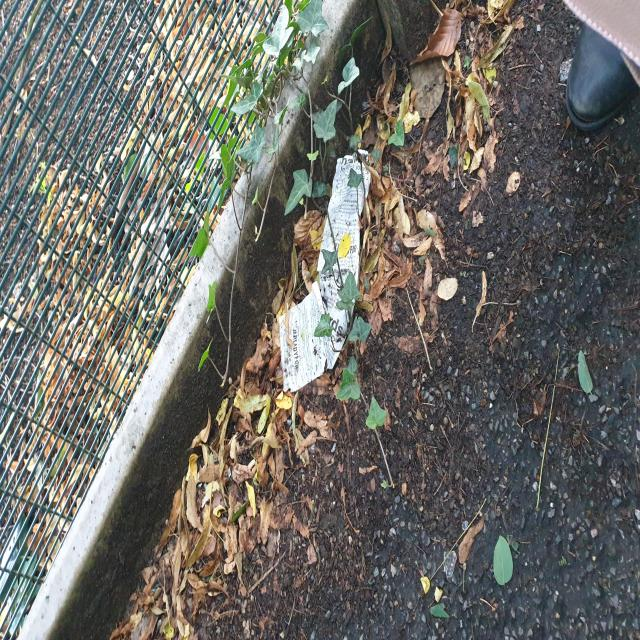litter: (279, 156, 370, 389)
